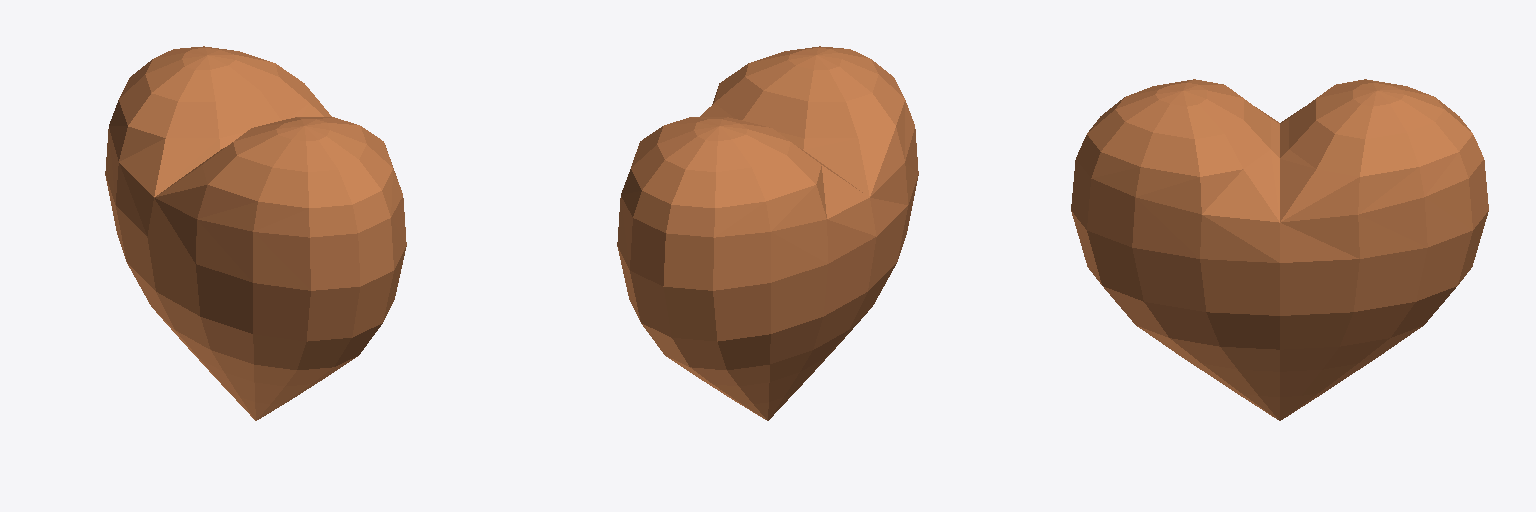
File: Heart.obj
3 views of the same model, side by side, from view 1: azimuth 30°, elevation 25°; view 2: azimuth 150°, elevation 25°; view 3: azimuth 270°, elevation 25° (orthographic).
Visible parts, largest first — view 1: Sphere; view 2: Sphere; view 3: Sphere.
Boxes of the visible parts, x1=… form: Sphere: x1=105, y1=46, x2=406, y2=420; Sphere: x1=617, y1=46, x2=918, y2=420; Sphere: x1=1071, y1=79, x2=1488, y2=420.
Size of the model in its own units: 9.23 by 13.42 by 15.38.